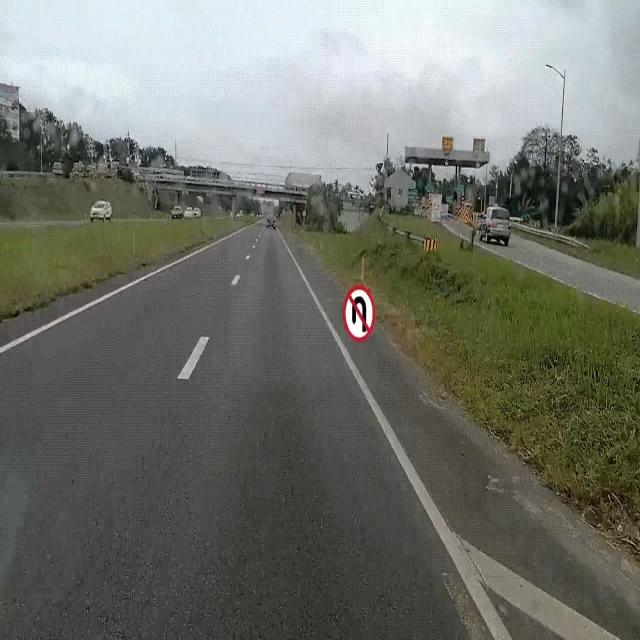Demi-Tour-Interdit: (340, 282, 380, 344)
